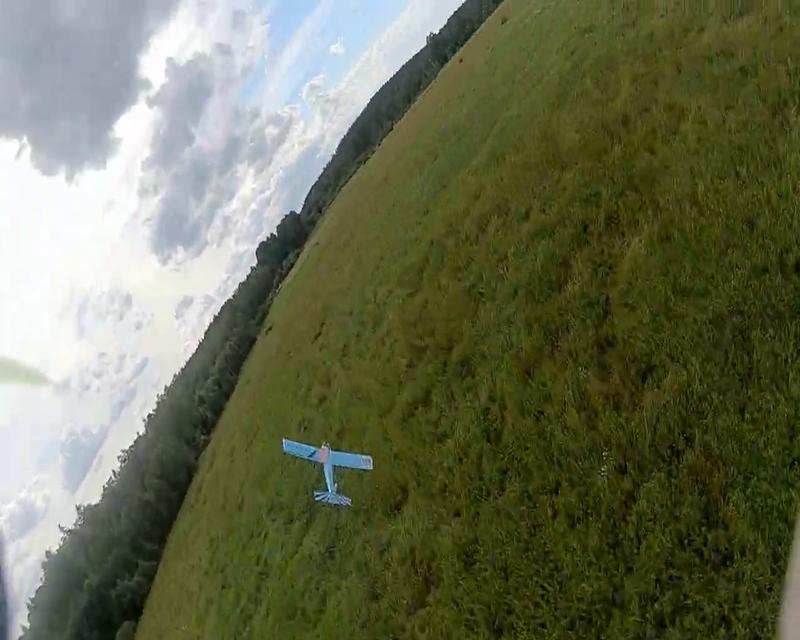UAV: (280, 436, 374, 508)
